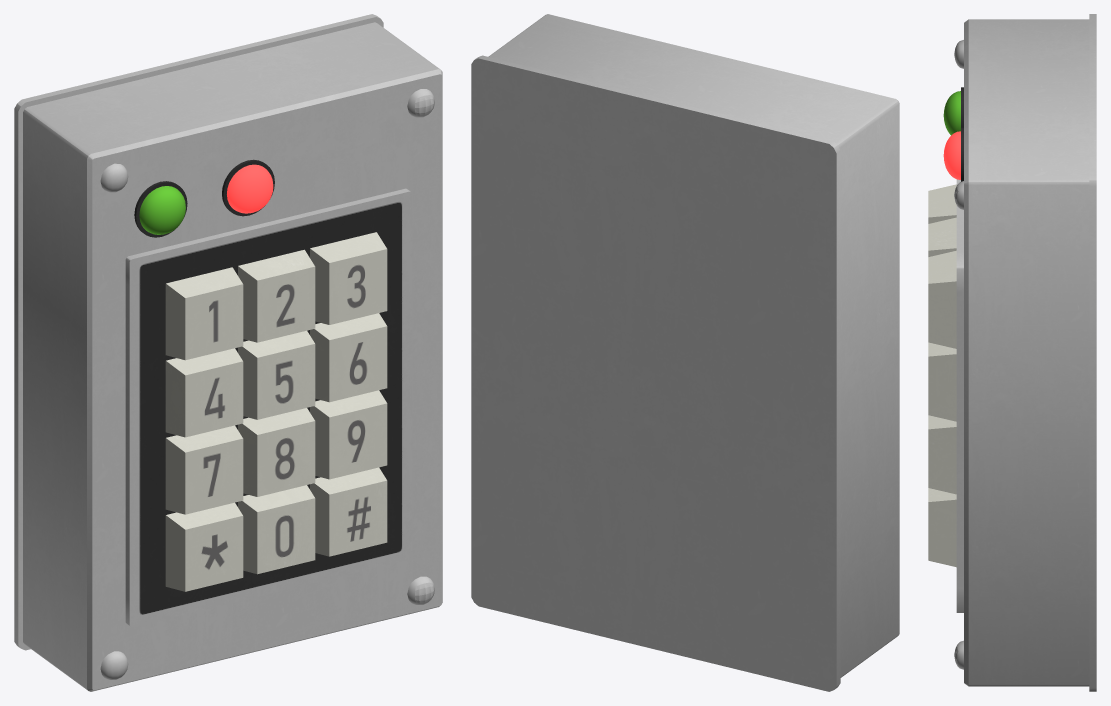
Rendered from plaggy_cc0-keypad-lock-544.glb.
3 views of the same model, side by side, from view 1: azimuth 30°, elevation 25°; view 2: azimuth 150°, elevation 25°; view 3: azimuth 270°, elevation 25° (orthographic). The views are drawn at different scales.
Visible parts, largest first — view 1: KeypadDoorLock; view 2: KeypadDoorLock; view 3: KeypadDoorLock.
Part boxes in pixels (x1,y1,x2,y2): KeypadDoorLock: [14, 14, 442, 691]; KeypadDoorLock: [471, 14, 899, 691]; KeypadDoorLock: [928, 14, 1096, 691].
Bounding box in the file's own units: 5.27 × 7.55 × 2.23.
1 material, 1 textured.
